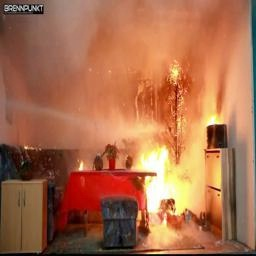fire: (131, 130, 198, 236)
